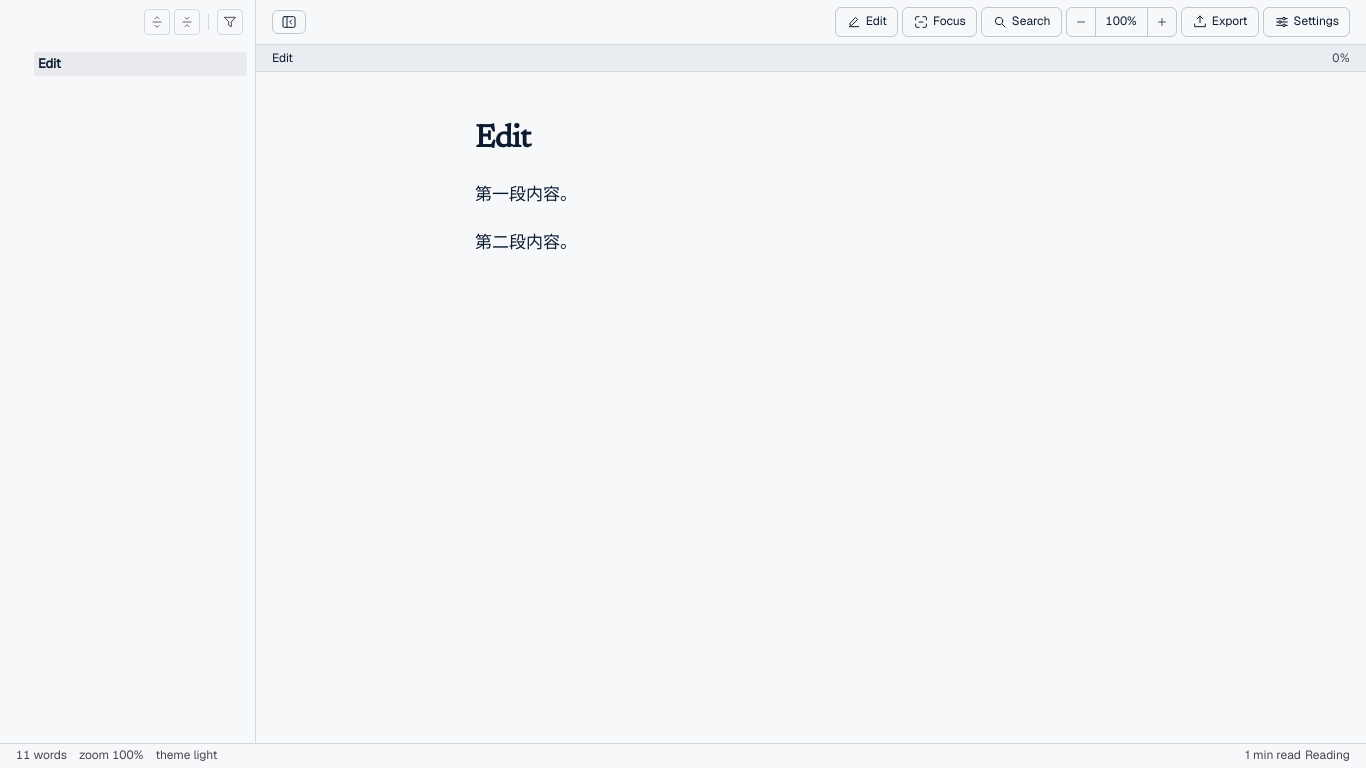
编辑手册入口（§7.5） › 只读态 DOM 里没有这一枚；开了编辑才出现
Click the button with aria-label "Edit mode": coordinates (866, 22) [835,7,898,37]
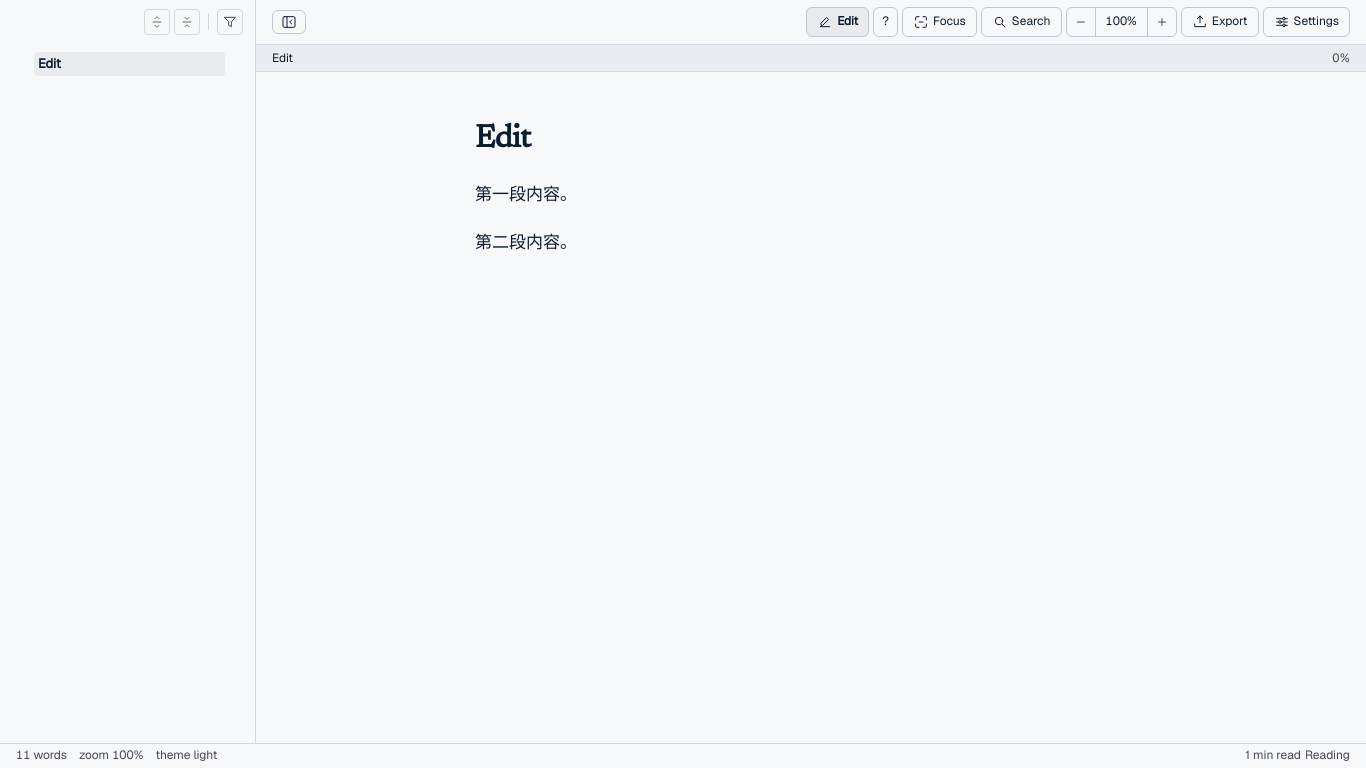
Expected: the button named "Editing guide" is shown, [873,7,898,37]
